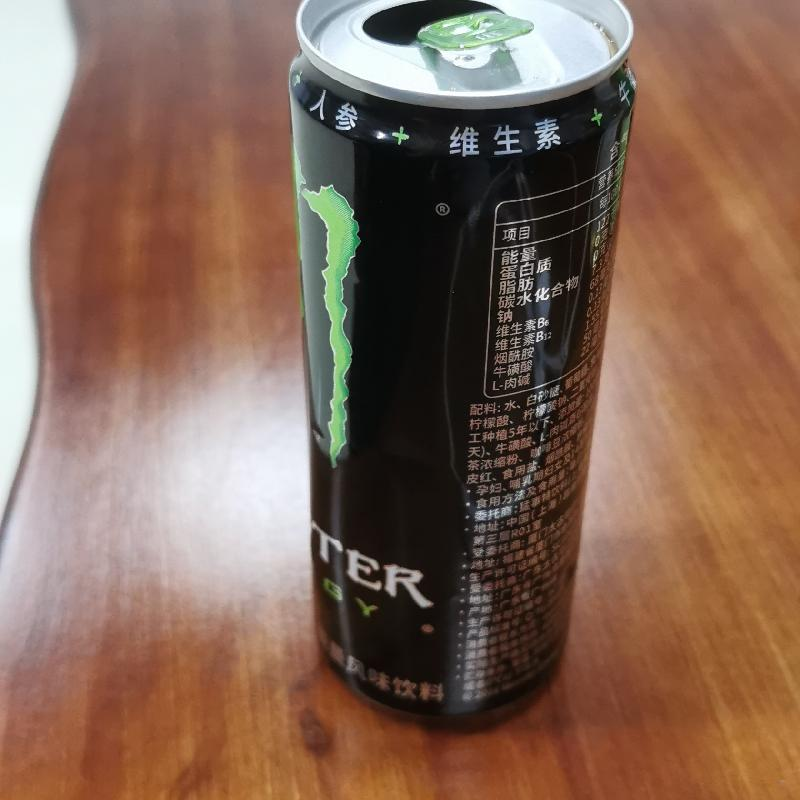cans: (275, 1, 660, 126)
